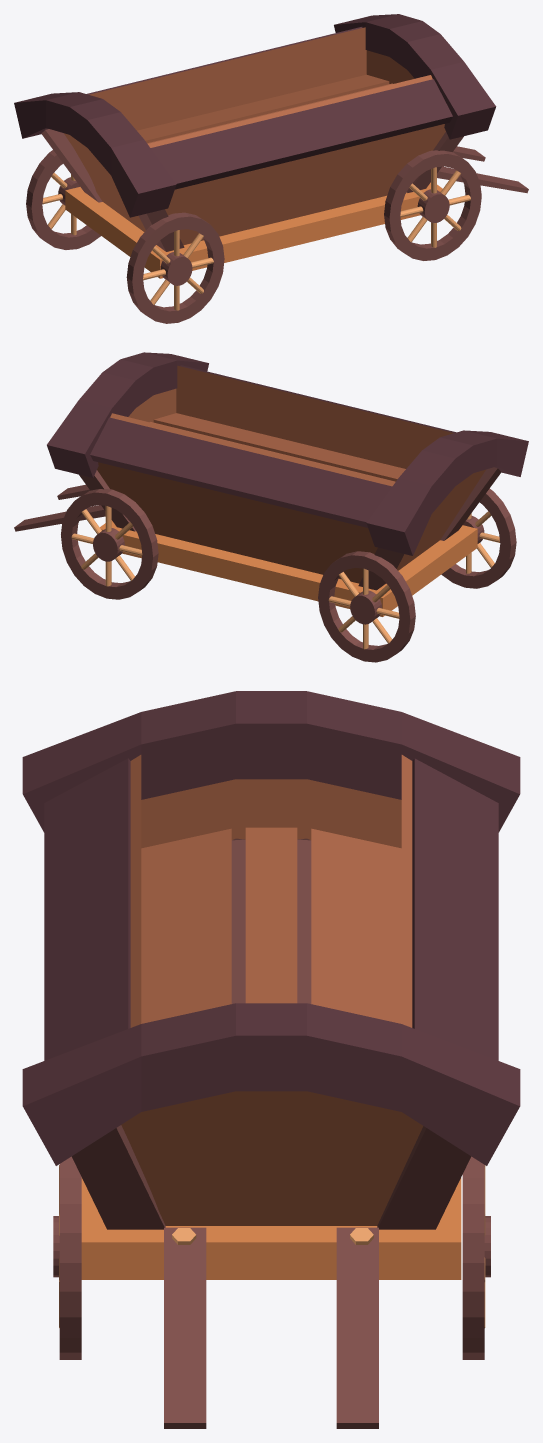
Rendered from Carroça-Vazia.fbx.
The picture shows the model from 3 angles, top to bottom: view 1: azimuth 30°, elevation 25°; view 2: azimuth 150°, elevation 25°; view 3: azimuth 270°, elevation 25°; orthographic projection. The views are drawn at different scales.
Visible parts, largest first — view 1: Cube.005; view 2: Cube.005; view 3: Cube.005.
Part boxes in pixels (x1,y1,x2,y2): Cube.005: [14, 14, 528, 323]; Cube.005: [14, 352, 528, 662]; Cube.005: [22, 691, 520, 1428].
Size of the model in its own units: 2.18 by 0.8874 by 1.1.
